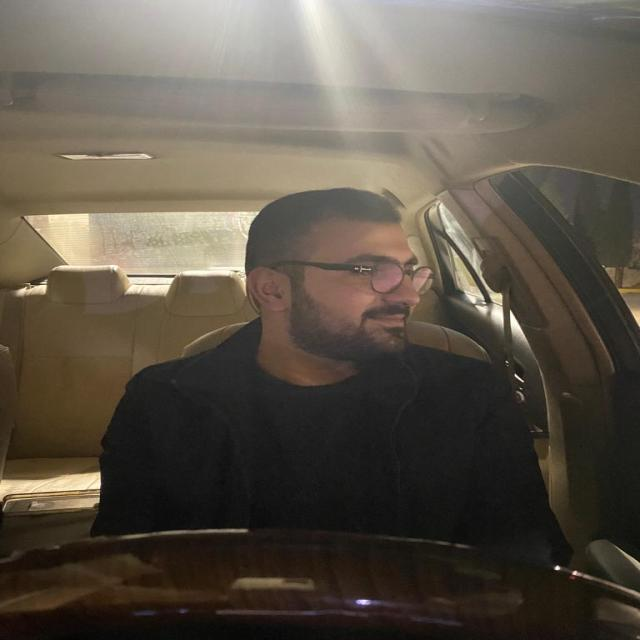LeftRight: (240, 184, 430, 367)
